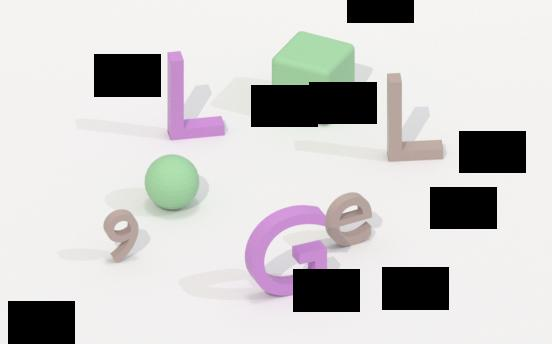9: (102, 208, 145, 264)
G-hoa: (243, 202, 333, 300)
cau: (142, 151, 203, 210)
e: (325, 191, 375, 247)
hop: (263, 31, 358, 126)
l: (382, 68, 454, 165), (160, 48, 233, 139)
